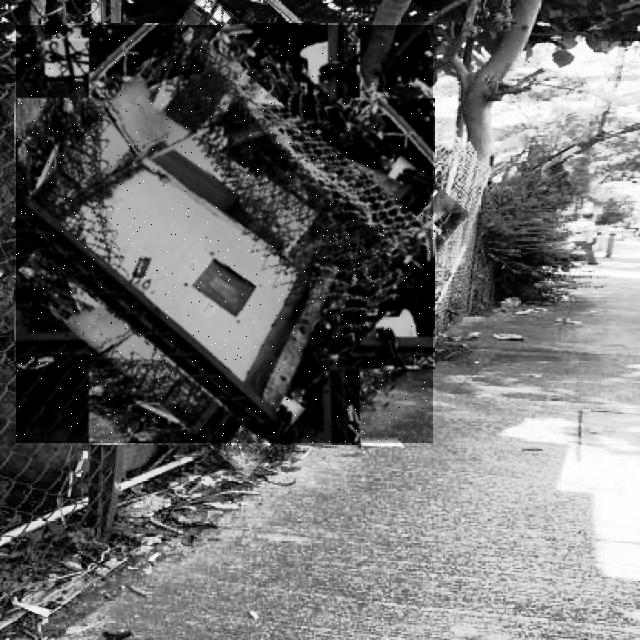anomaly-fence: (16, 25, 433, 443)
